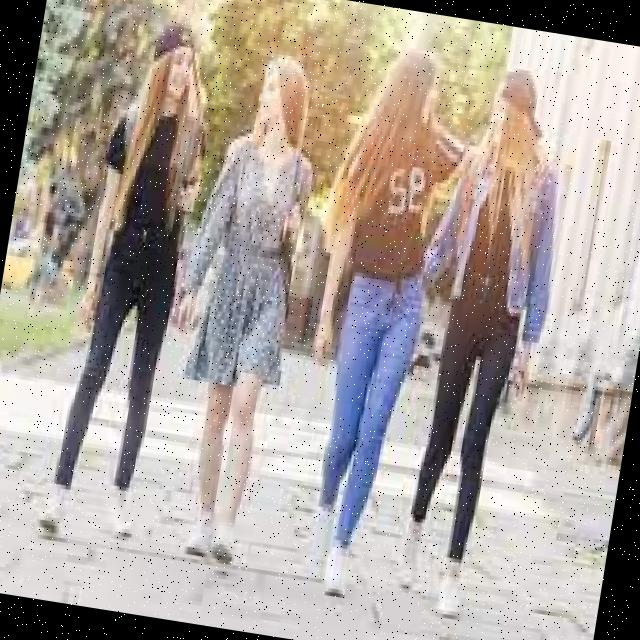Person: (371, 60, 589, 626), (269, 43, 480, 605), (36, 10, 226, 548), (142, 46, 328, 566)
